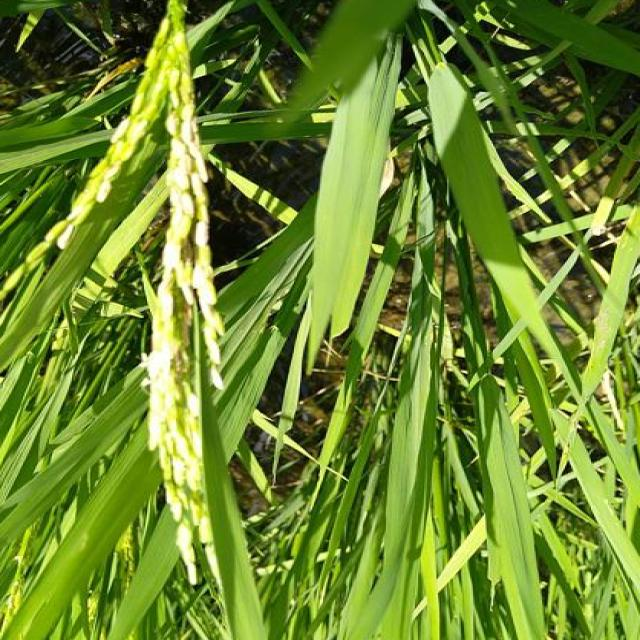Panicle Blight: (171, 303, 196, 386)
